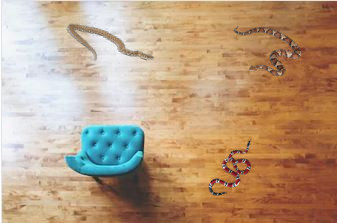snake: (233, 24, 303, 77), (67, 23, 155, 63), (208, 139, 255, 196)
